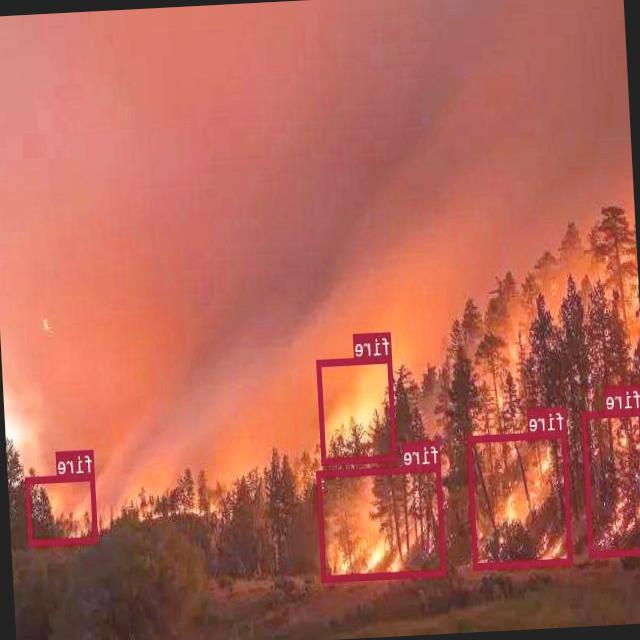fire: (317, 464, 447, 580), (467, 430, 574, 569), (317, 354, 397, 464), (582, 407, 640, 556), (26, 472, 99, 546)
